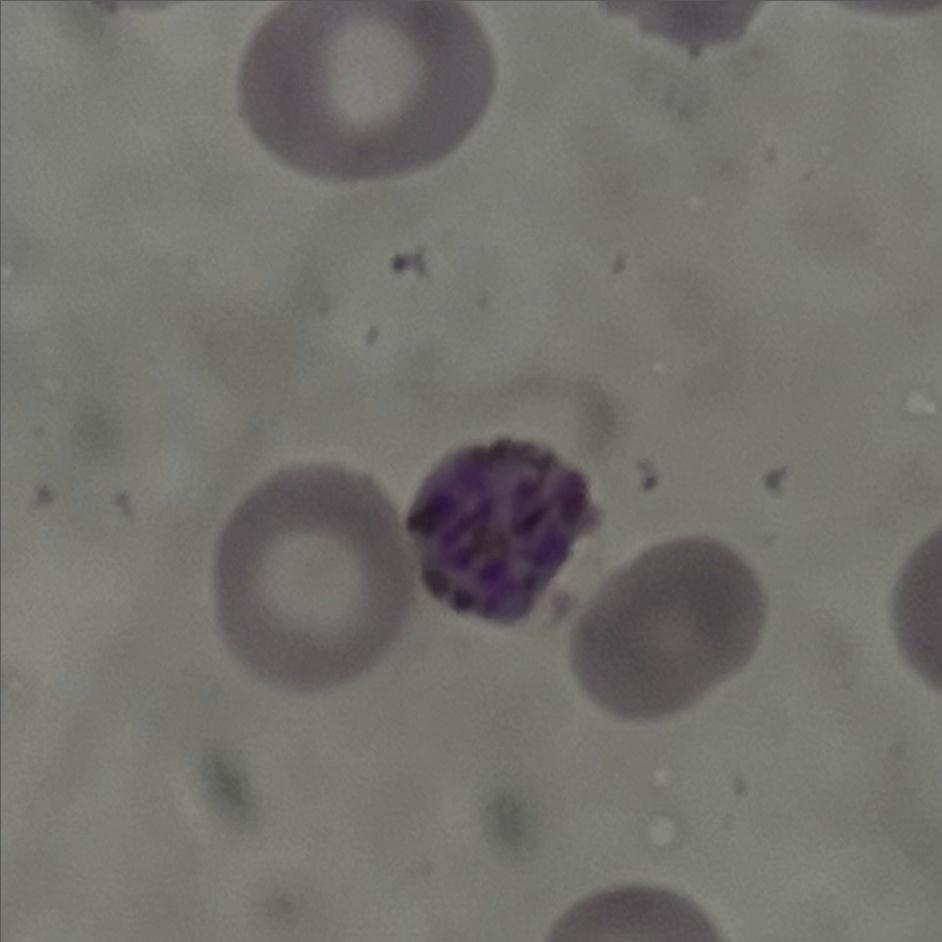Infected: (400, 434, 604, 623)
Uninfected: (235, 0, 496, 182), (215, 462, 412, 691), (570, 537, 767, 720)
